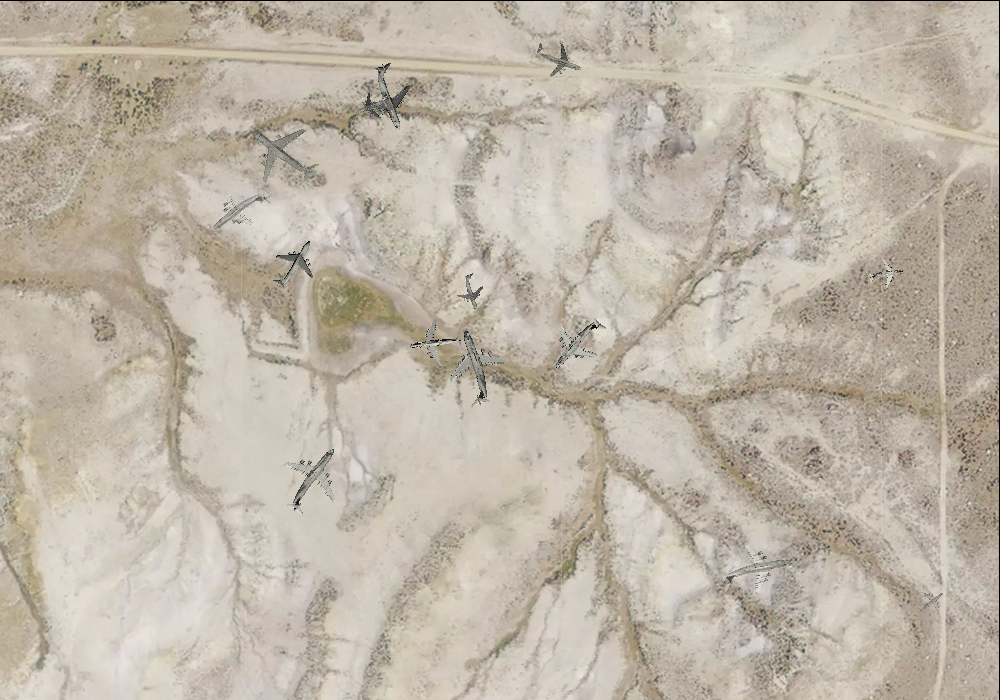plane: (231, 101, 333, 203), (262, 429, 363, 531), (428, 320, 519, 415), (535, 300, 621, 387), (349, 54, 430, 139), (199, 172, 280, 251), (715, 535, 796, 609), (258, 227, 329, 299), (528, 30, 589, 86), (406, 315, 465, 370), (348, 81, 395, 126), (450, 268, 494, 315), (910, 581, 952, 623), (867, 256, 906, 293)
